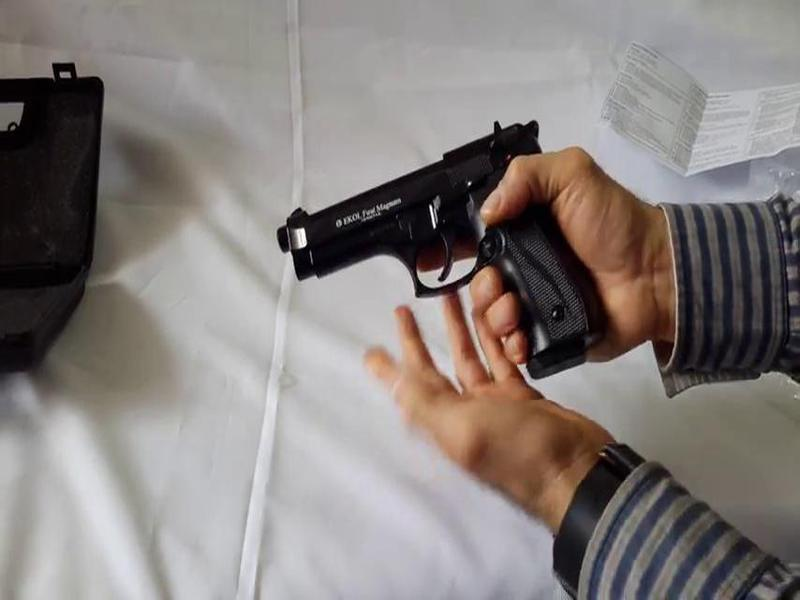Pistola: (256, 140, 606, 371)
